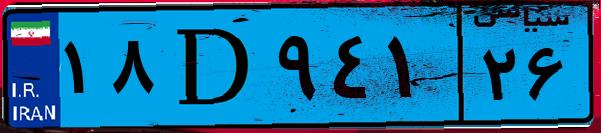1: (385, 28, 445, 110), (57, 26, 110, 100)
2: (475, 38, 525, 113)
4: (330, 28, 385, 110)
6: (525, 38, 570, 115)
8: (110, 28, 158, 98)
9: (270, 28, 330, 110)
D: (158, 12, 270, 120)
